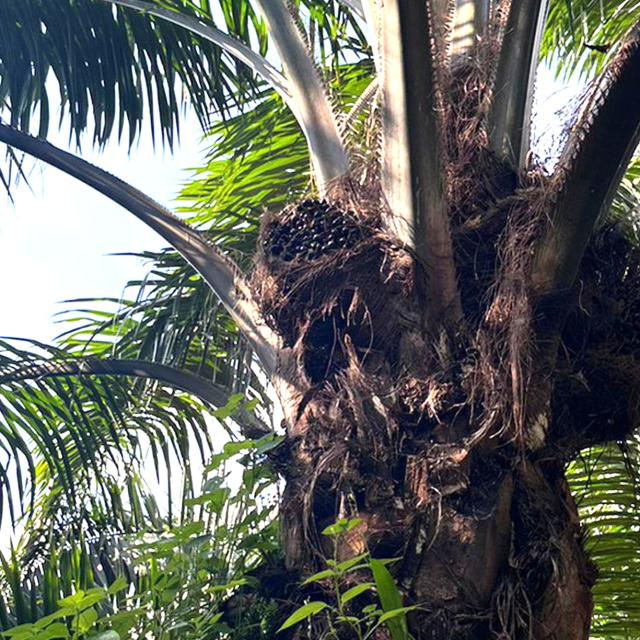ripe: (259, 193, 374, 269)
